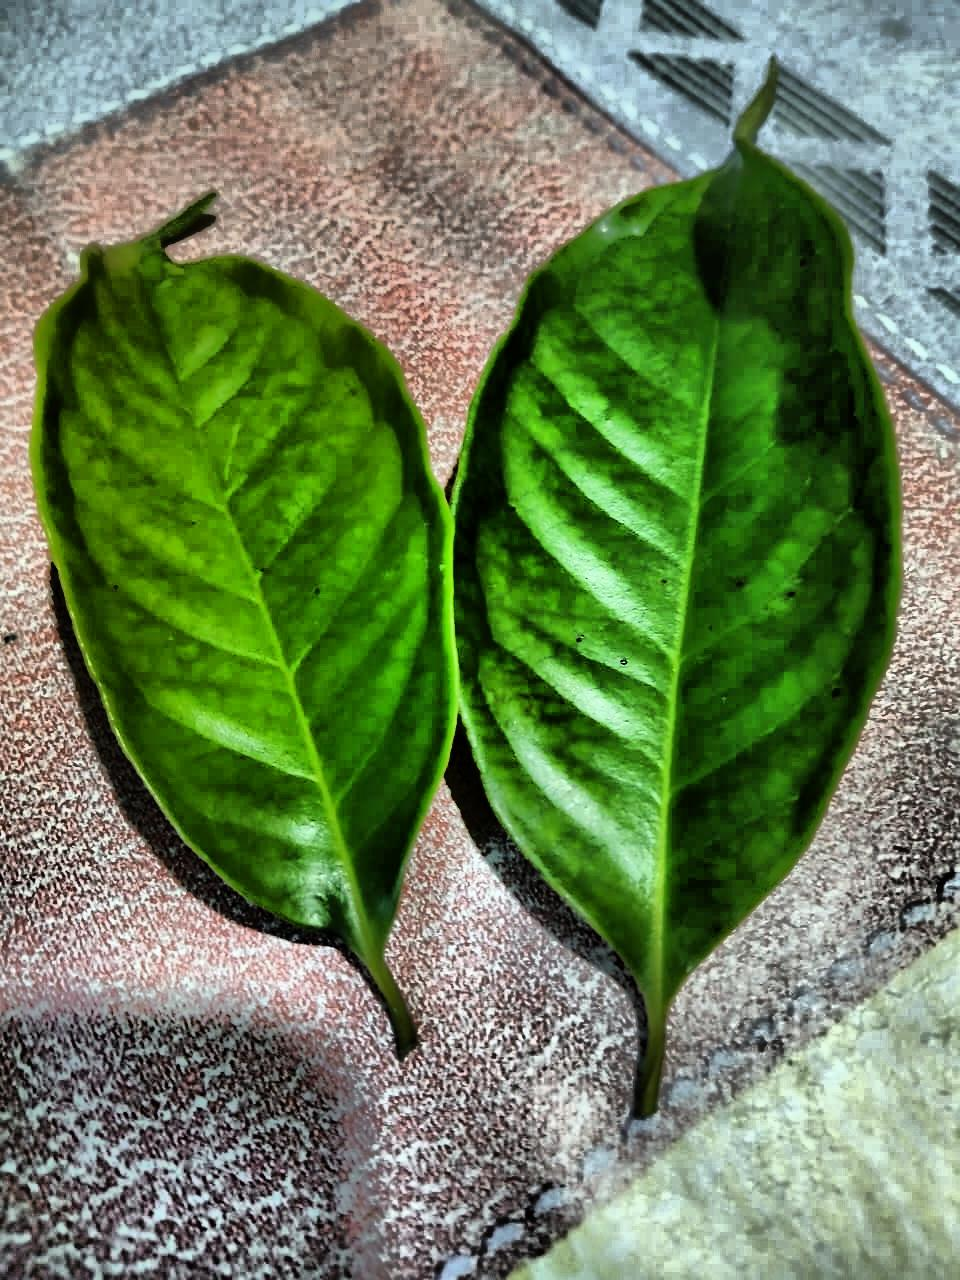daun salam: (31, 69, 899, 1114)
